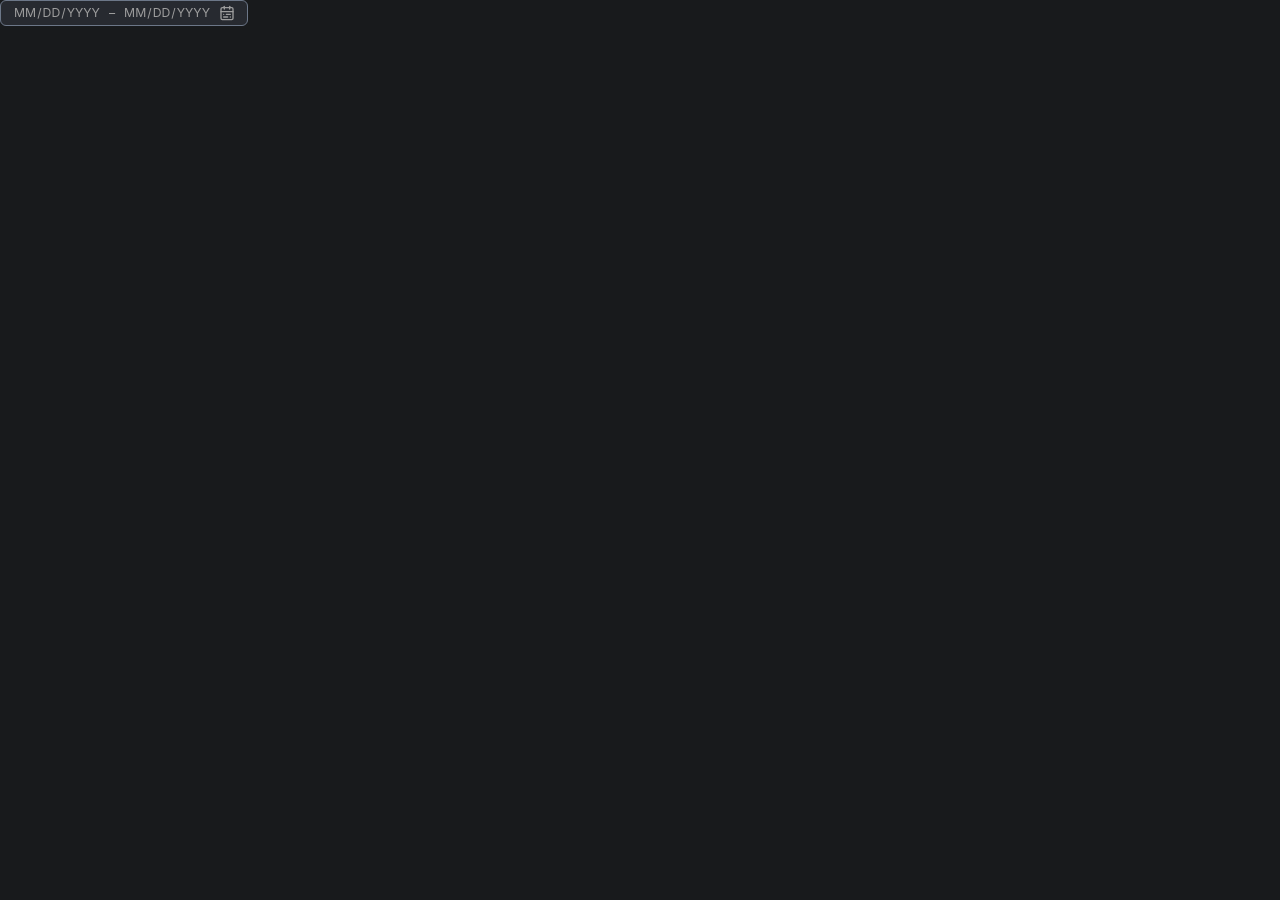
it: DateRangePicker › clicking icon button opens the calendar
Click the button named "Open calendar". click: (227,13)
box: [219,5,235,21]
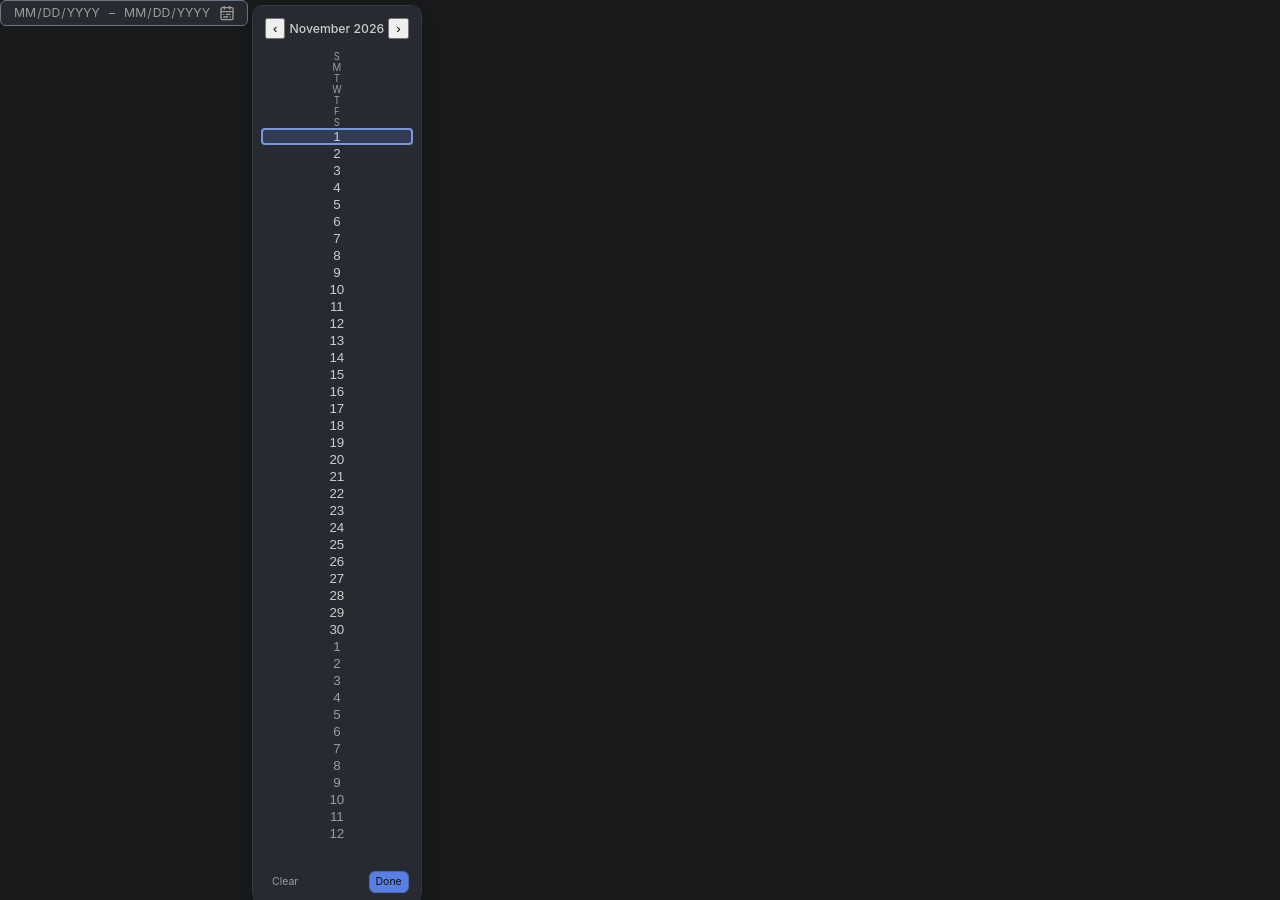
Expected: the table is shown, [261,51,413,842]
